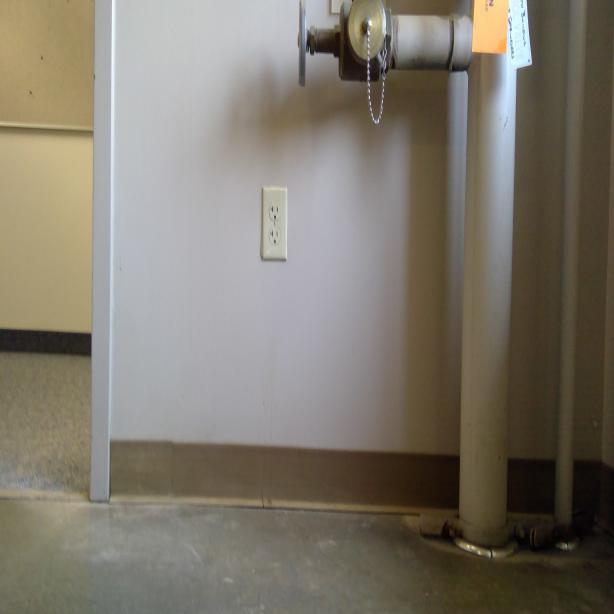typeb: (268, 226, 281, 247), (269, 200, 281, 222)
